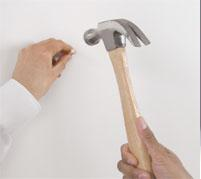hammer: (81, 16, 150, 113)
